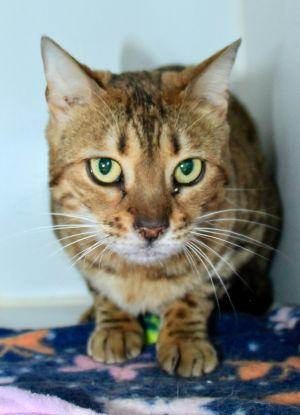bengal: (28, 26, 245, 287)
